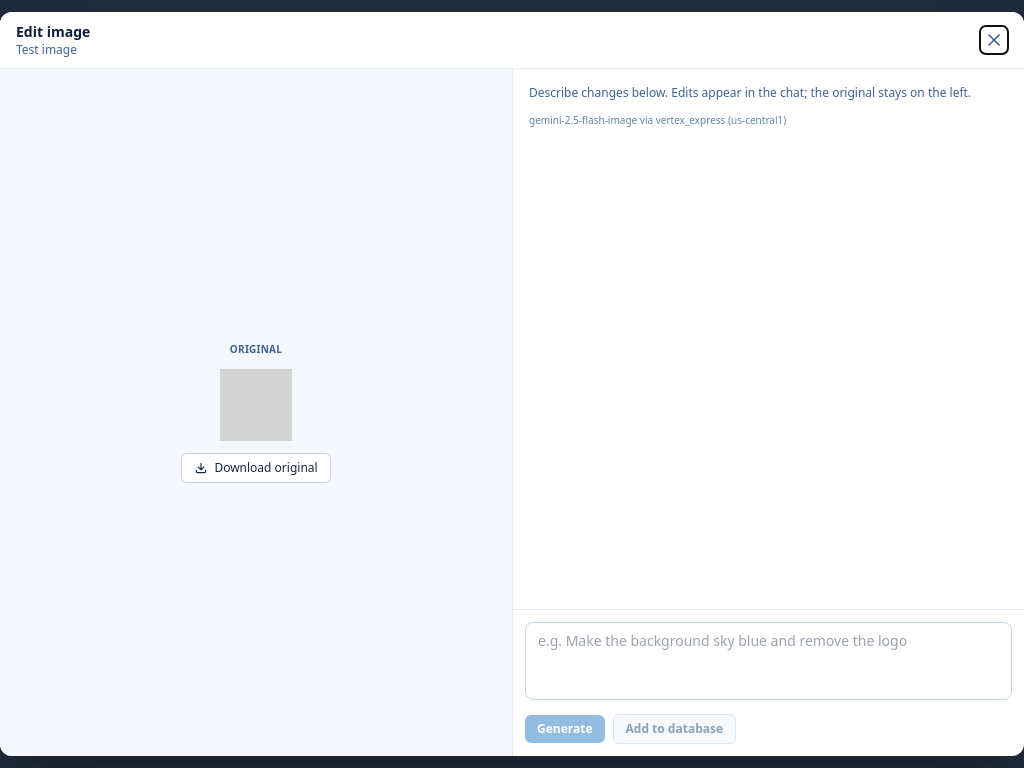
it: ImageEditSession › does not discard a session after it was submitted
Type "p" into the text box with test id "edit-prompt" at (768, 661), box 525,622 -> 1012,700
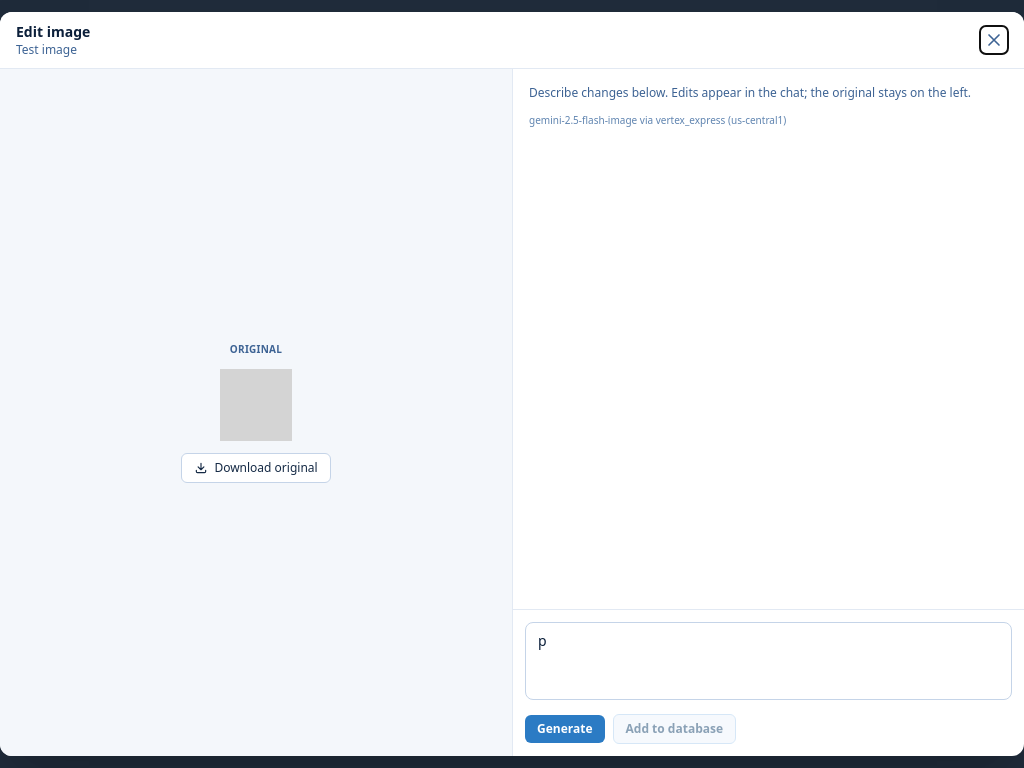
Click the button with test id "edit-send" at (565, 729), box 525,715 -> 604,743
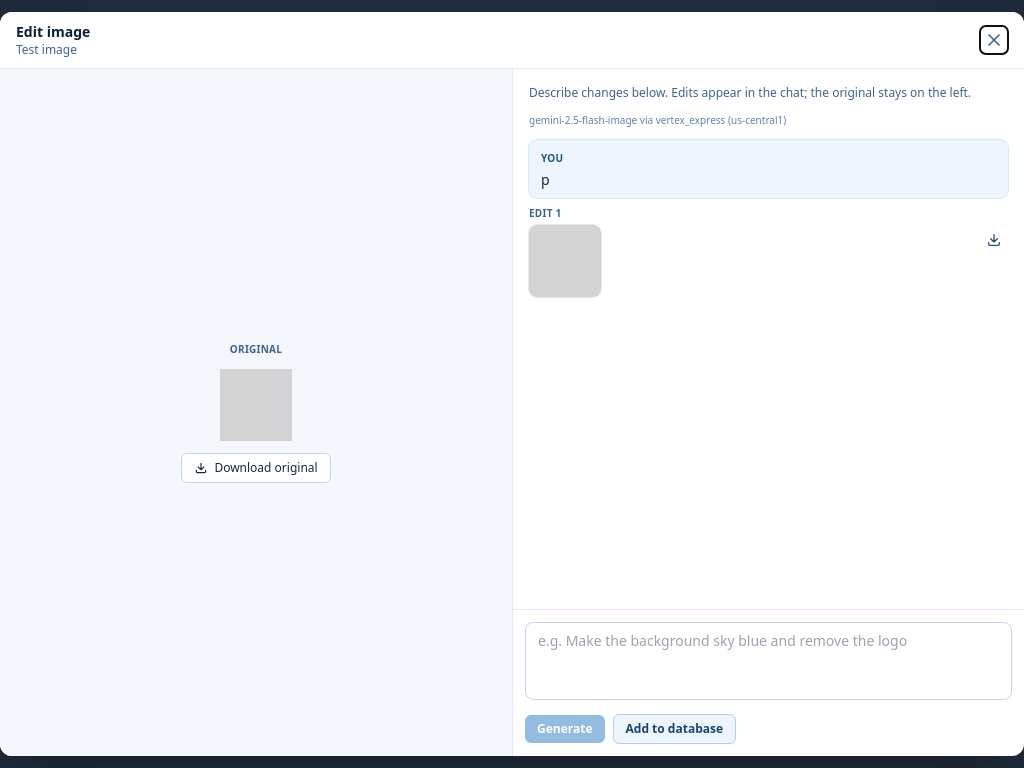
Click the button with test id "edit-submit" at (674, 729), box 612,714 -> 736,744
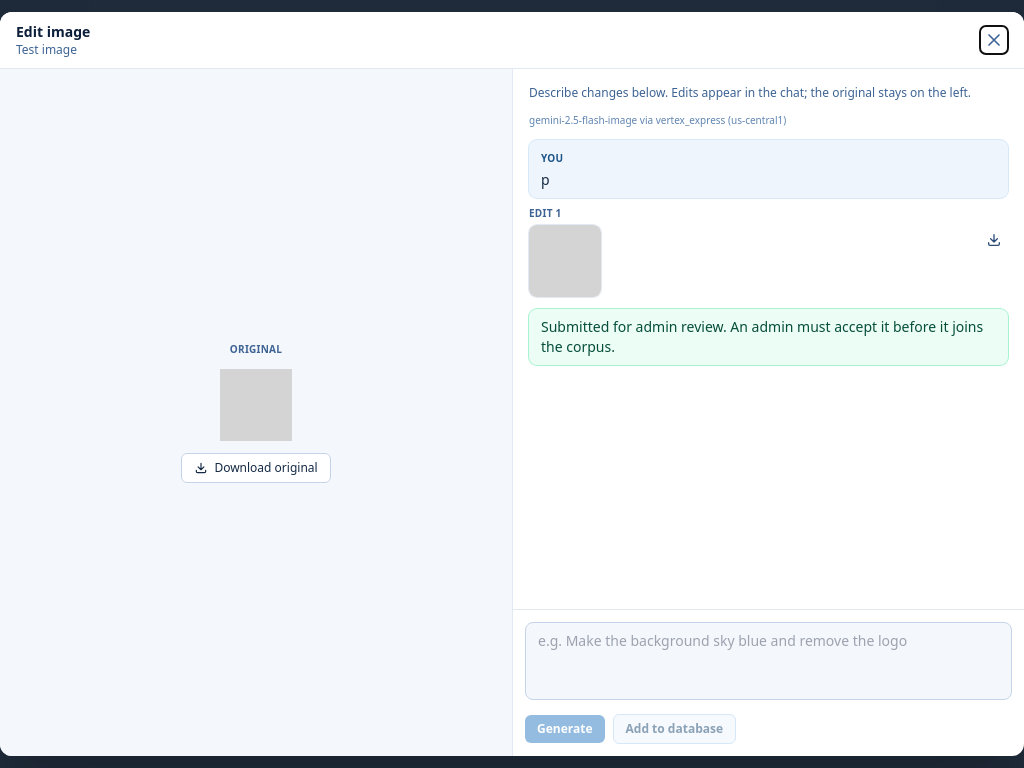
Result: the text "Submitted for admin review" is shown at 541,317 -> 983,356
